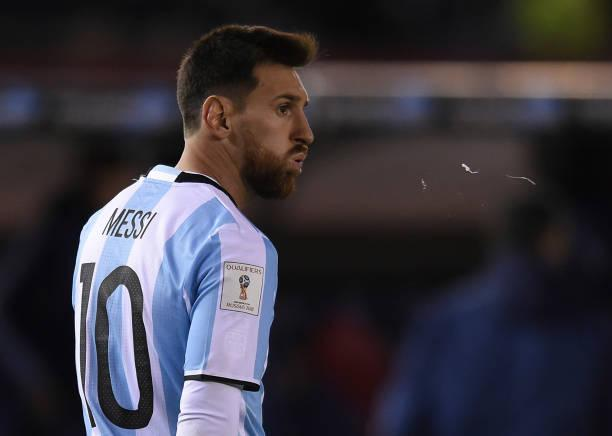Spitting: (161, 5, 495, 219)
